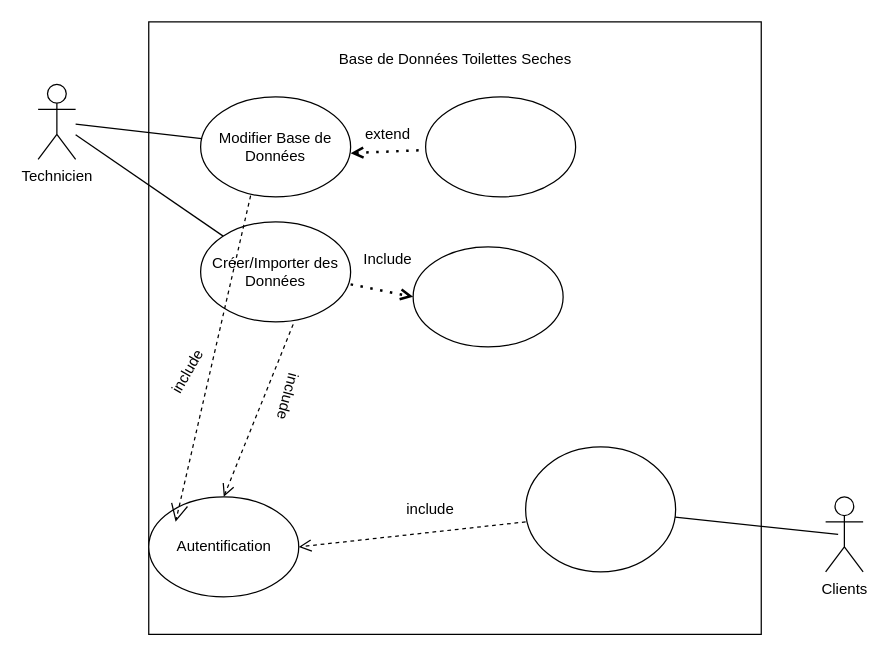
Some shapes in this 889 by 656 pixel diagram are drawn without their labels. The box of each missing label's shape, as (x1, y1, x2, y2) in pixels:
Récupérer les Données: (412, 246, 563, 347)
Supprimer Base de Données: (424, 96, 576, 197)
Visualiser les Données de son lot de toillettes seches: (524, 446, 676, 572)
